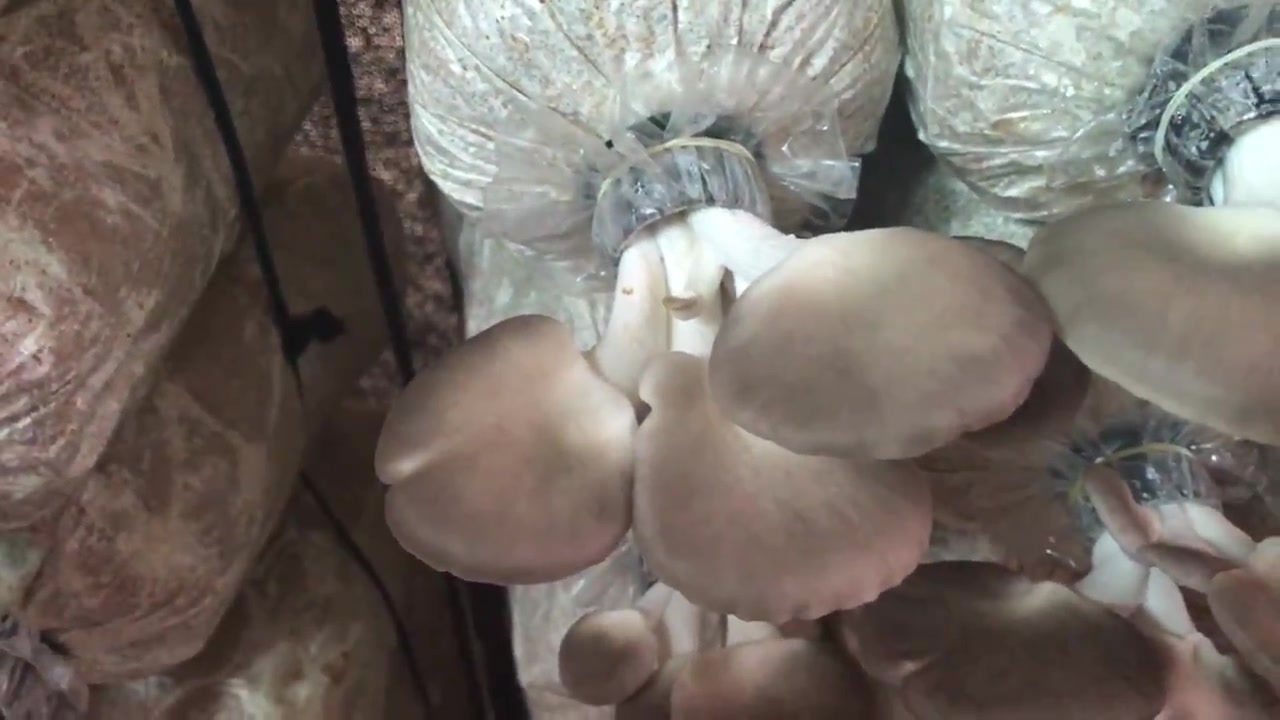nam: (373, 145, 1053, 621), (849, 452, 1280, 717), (1028, 50, 1280, 436), (559, 585, 903, 720)
